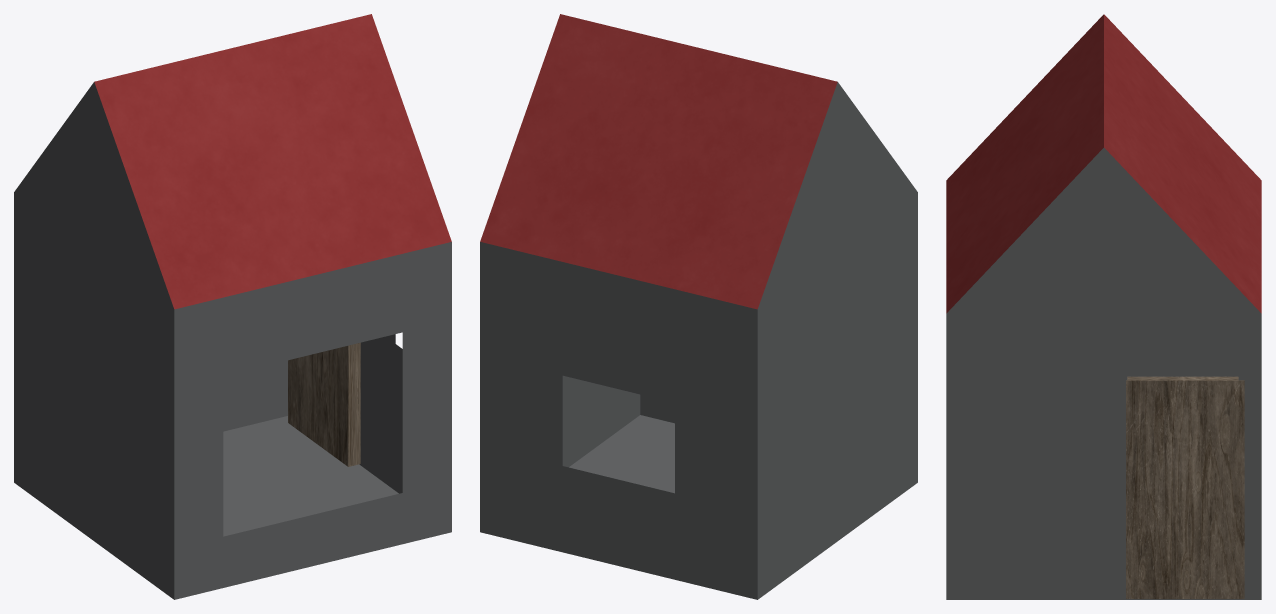
File: dom.fbx
3 renders of one model, left to right at view 1: azimuth 30°, elevation 25°; view 2: azimuth 150°, elevation 25°; view 3: azimuth 270°, elevation 25°, orthographic.
Parts seen in each view (by area): view 1: Cube, Cube.001; view 2: Cube; view 3: Cube, Cube.001.
Boxes of the visible parts, x1,y1,x2,y2 form: Cube: [14, 14, 451, 599]; Cube.001: [288, 342, 360, 466]; Cube: [480, 14, 917, 599]; Cube: [946, 14, 1261, 599]; Cube.001: [1126, 376, 1244, 598].
Size of the model in its own units: 775 by 1221 by 772.
